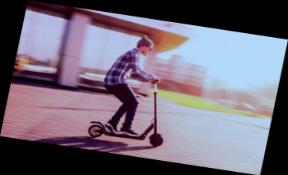nonhelmet: (84, 27, 186, 149)
